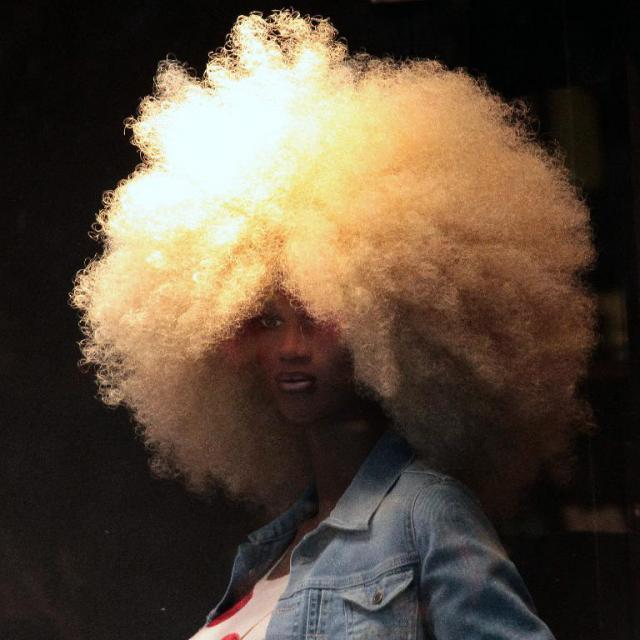closed-mouth: (273, 369, 313, 391)
